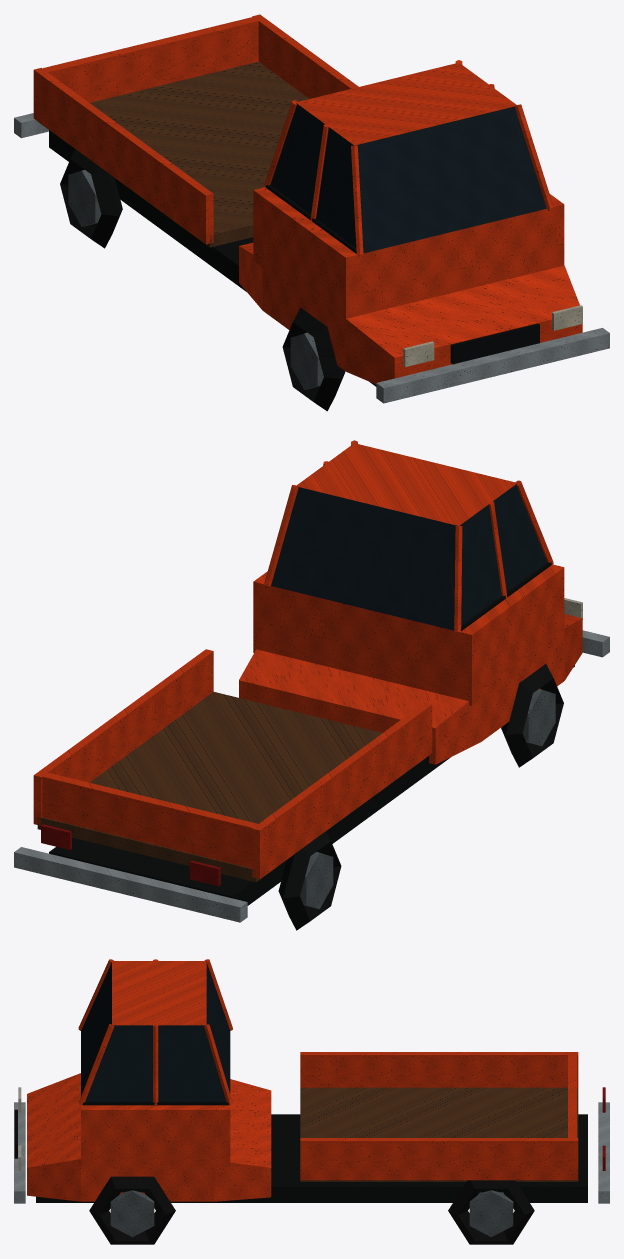
The model's file is PROP-532EF1E6365B_lod2.glb.
3 renders of one model, top to bottom at view 1: azimuth 30°, elevation 25°; view 2: azimuth 150°, elevation 25°; view 3: azimuth 270°, elevation 25°, orthographic. The views are drawn at different scales.
Parts seen in each view (by area): view 1: sloped_cabin_glazing.006, lower_cab_shell.004, bed_deck.003, shaped_body_panels.008, bed_sides.003, roof_panel.006, tailgate.003, bumper.008, tire.008, chassis.008, window_pillars.006, rim.008 (+3 smaller); view 2: sloped_cabin_glazing.006, bed_deck.003, lower_cab_shell.004, bed_sides.003, shaped_body_panels.008, tailgate.003, roof_panel.006, chassis.008, bumper.008, tire.008, rim.008, window_pillars.006 (+1 smaller); view 3: bed_sides.003, shaped_body_panels.008, bed_deck.003, sloped_cabin_glazing.006, lower_cab_shell.004, chassis.008, roof_panel.006, tire.008, rim.008, window_pillars.006, bumper.008, tailgate.003 (+1 smaller).
Boxes of the visible parts, x1=… form: sloped_cabin_glazing.006: x1=270, y1=103, x2=546, y2=253; lower_cab_shell.004: x1=253, y1=187, x2=564, y2=327; bed_deck.003: x1=39, y1=61, x2=308, y2=247; shaped_body_panels.008: x1=239, y1=242, x2=582, y2=384; bed_sides.003: x1=33, y1=14, x2=358, y2=244; roof_panel.006: x1=295, y1=62, x2=517, y2=145; tailgate.003: x1=42, y1=16, x2=261, y2=102; bumper.008: x1=14, y1=113, x2=609, y2=403; tire.008: x1=60, y1=149, x2=345, y2=411; chassis.008: x1=49, y1=130, x2=376, y2=386; window_pillars.006: x1=264, y1=60, x2=553, y2=254; rim.008: x1=68, y1=170, x2=323, y2=389; sloped_cabin_glazing.006: x1=271, y1=483, x2=547, y2=630; bed_deck.003: x1=37, y1=692, x2=426, y2=882; lower_cab_shell.004: x1=253, y1=564, x2=564, y2=705; bed_sides.003: x1=33, y1=649, x2=432, y2=879; shaped_body_panels.008: x1=239, y1=614, x2=582, y2=764; tailgate.003: x1=42, y1=772, x2=261, y2=868; roof_panel.006: x1=296, y1=443, x2=517, y2=525; chassis.008: x1=49, y1=665, x2=574, y2=905; bumper.008: x1=14, y1=630, x2=609, y2=922; tire.008: x1=278, y1=664, x2=563, y2=930; rim.008: x1=300, y1=689, x2=555, y2=908; window_pillars.006: x1=264, y1=440, x2=553, y2=631; bed_sides.003: x1=300, y1=1052, x2=578, y2=1180; shaped_body_panels.008: x1=27, y1=1073, x2=271, y2=1201; bed_deck.003: x1=300, y1=1087, x2=578, y2=1181; sloped_cabin_glazing.006: x1=81, y1=961, x2=230, y2=1101; lower_cab_shell.004: x1=81, y1=1105, x2=230, y2=1167; chassis.008: x1=36, y1=1114, x2=587, y2=1202; roof_panel.006: x1=112, y1=961, x2=206, y2=1025; tire.008: x1=89, y1=1176, x2=534, y2=1244; rim.008: x1=110, y1=1190, x2=513, y2=1237; window_pillars.006: x1=78, y1=959, x2=232, y2=1105; bumper.008: x1=14, y1=1102, x2=609, y2=1203; tailgate.003: x1=568, y1=1053, x2=576, y2=1139.
Size of the model in its own units: 2.47 by 2.56 by 6.59.
Materials: 9 (9 with a texture image).
